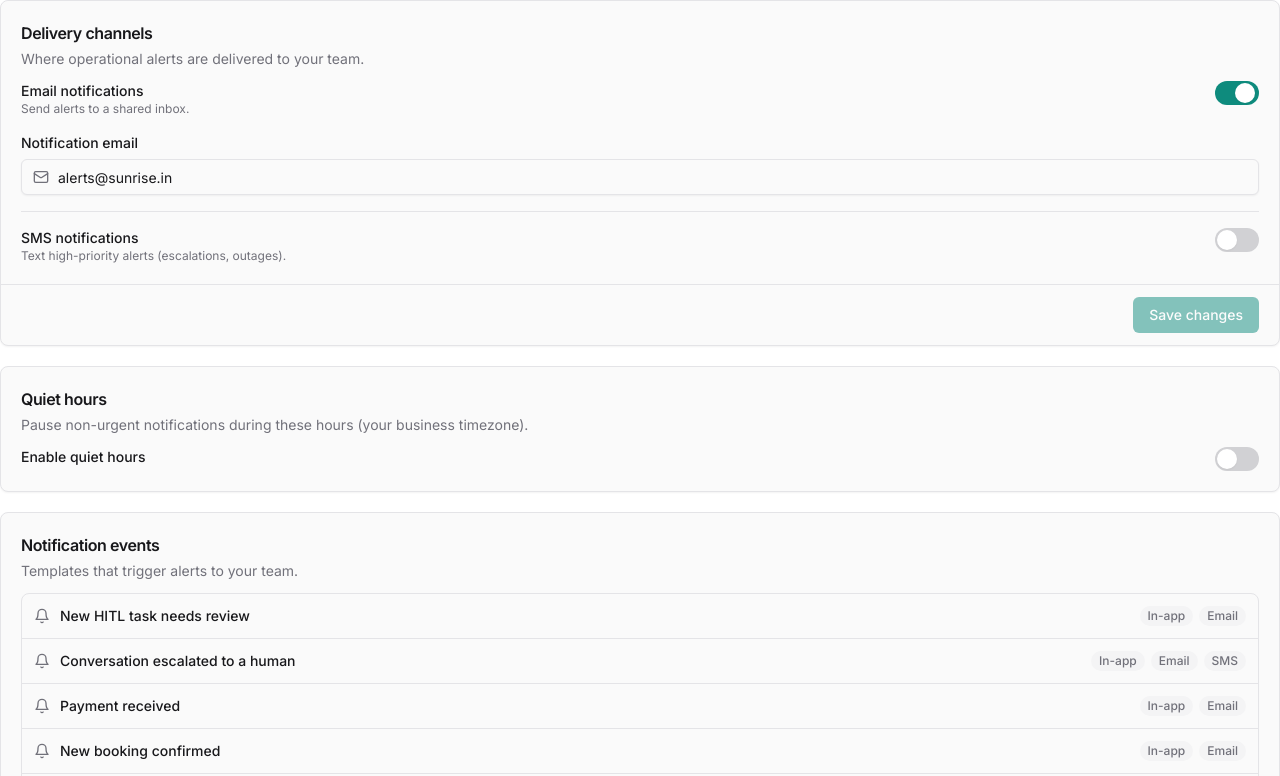
Test: NotificationsPage › reveals the phone box only once SMS alerts are on
Expected: the field with placeholder "+91…" is not shown
Click the switch named "SMS notifications" at (1237, 240), box [1215,228,1259,252]
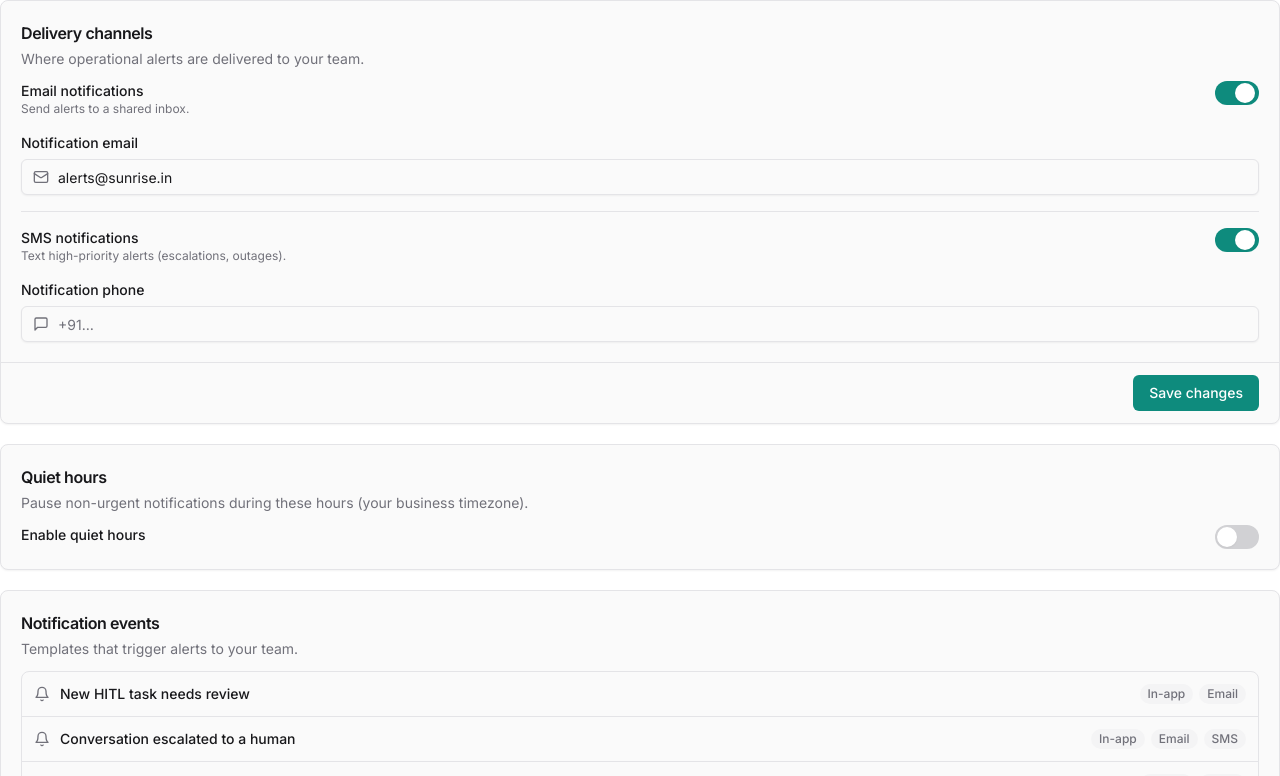
Result: the field with placeholder "+91…" is shown at [21,306,1259,342]
